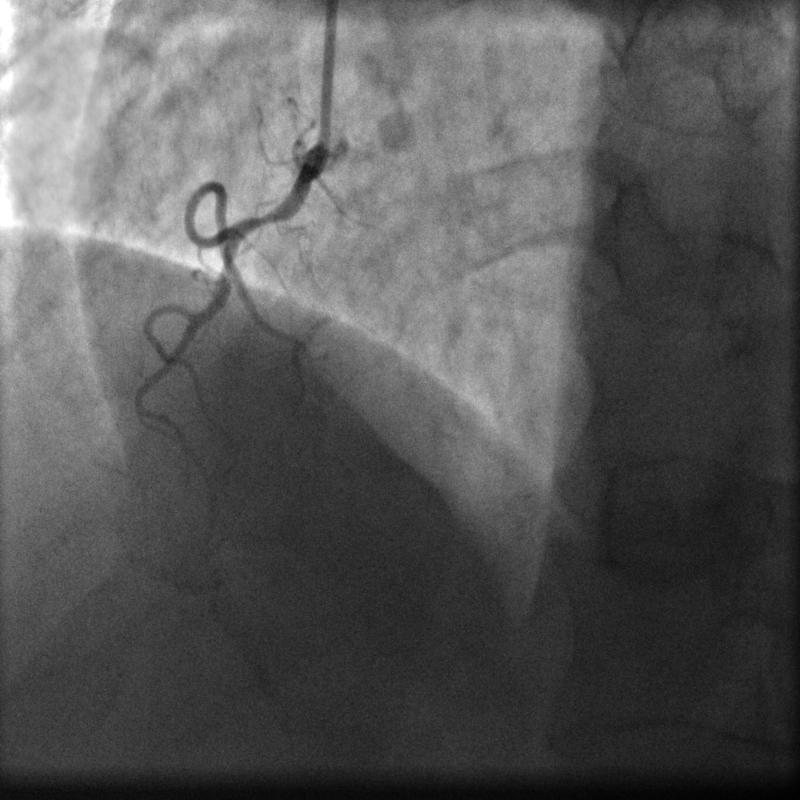Stenosis: (245, 202, 289, 232)
